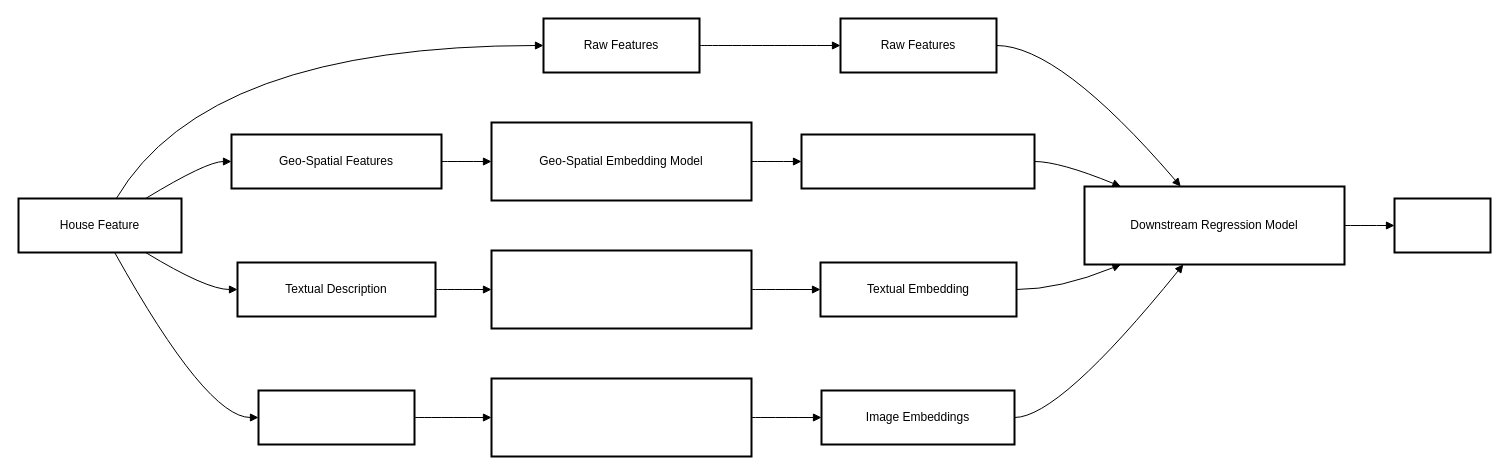
Some shapes in this 1508 by 474 pixel diagram are drawn without their labels. The shapes that lost their labels are listed below. From the top down, each one's box as (x1, y1, x2, y2) in pixels, then its label:
(800, 133, 1035, 189): Geo-Spatial Embeddings
(1393, 197, 1491, 253): Price
(490, 249, 752, 329): Pretrained Text Embedding Model
(257, 389, 415, 445): House Visuals
(490, 377, 752, 457): Multi-modal Contrastive Model
